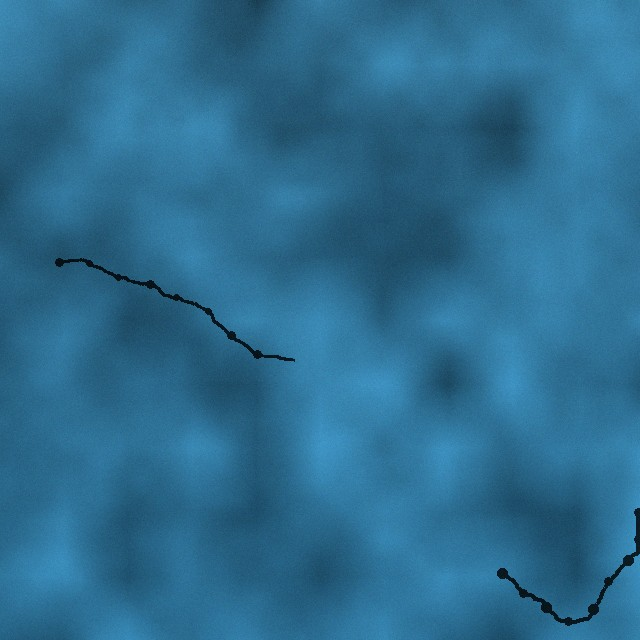crack: (54, 254, 299, 365), (496, 505, 639, 627)
